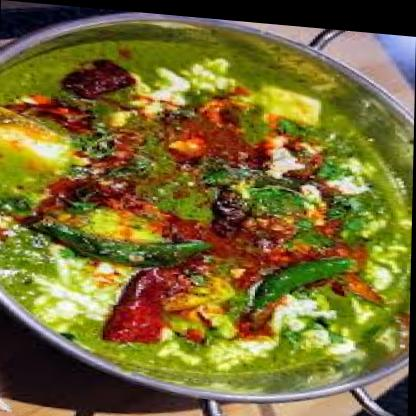palak_paneer: (0, 26, 416, 383)
